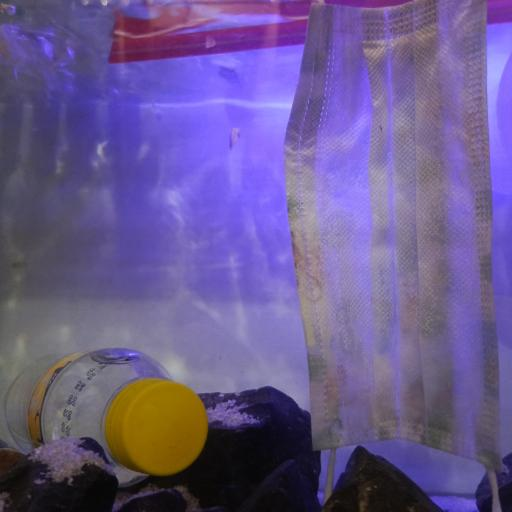bottle_cap: (115, 379, 207, 476)
mask: (284, 1, 512, 482)
plastic_bottle: (2, 349, 209, 488)
plastic_straw: (108, 20, 512, 66)
